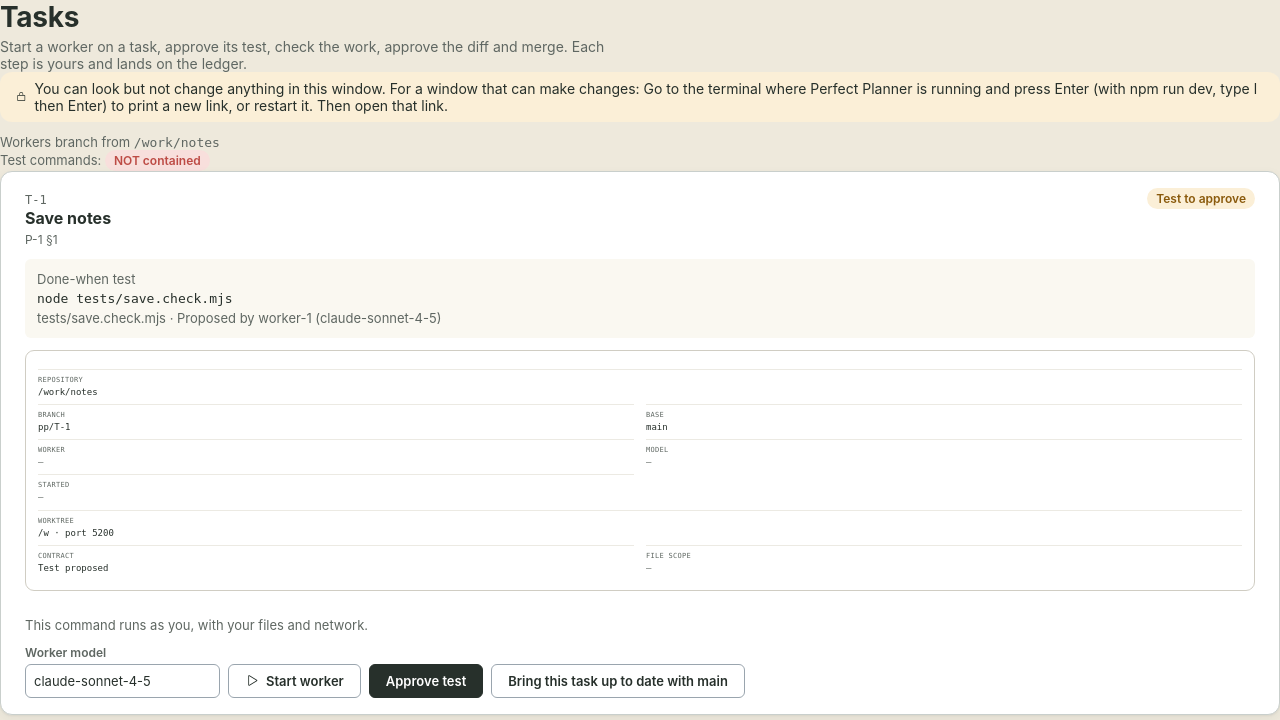
Test: TasksScreen › a proposed test shows its command and who wrote it; Approve test runs it and reports that it fails first
Check: the text "node tests/save.check.mjs" is shown, box [37,291,233,306]
Check: the text "Proposed by worker-1" is shown, box [37,310,441,326]
Click the button "Approve test" at (426, 681), box [369,664,483,698]
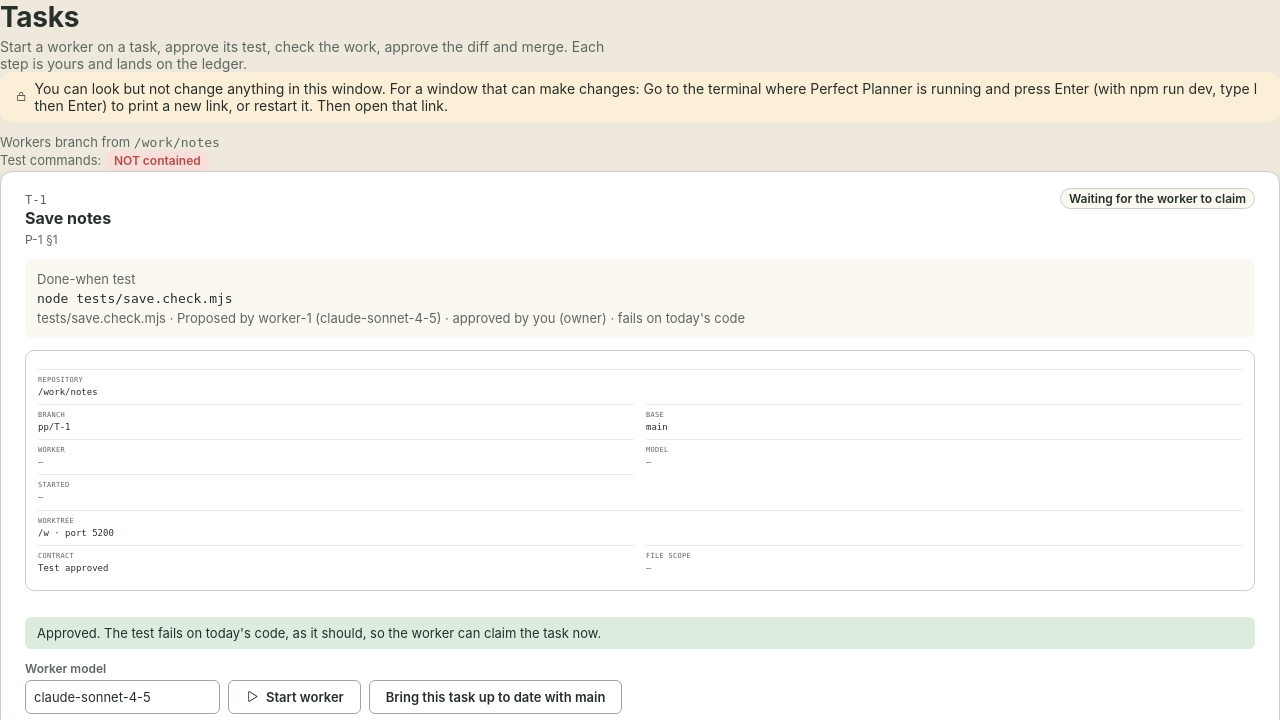
Check: the text "fails on today's code, as it should" is shown, box [37,625,601,641]
Check: the text "Waiting for the worker to claim" is shown, box [1060,188,1255,209]
